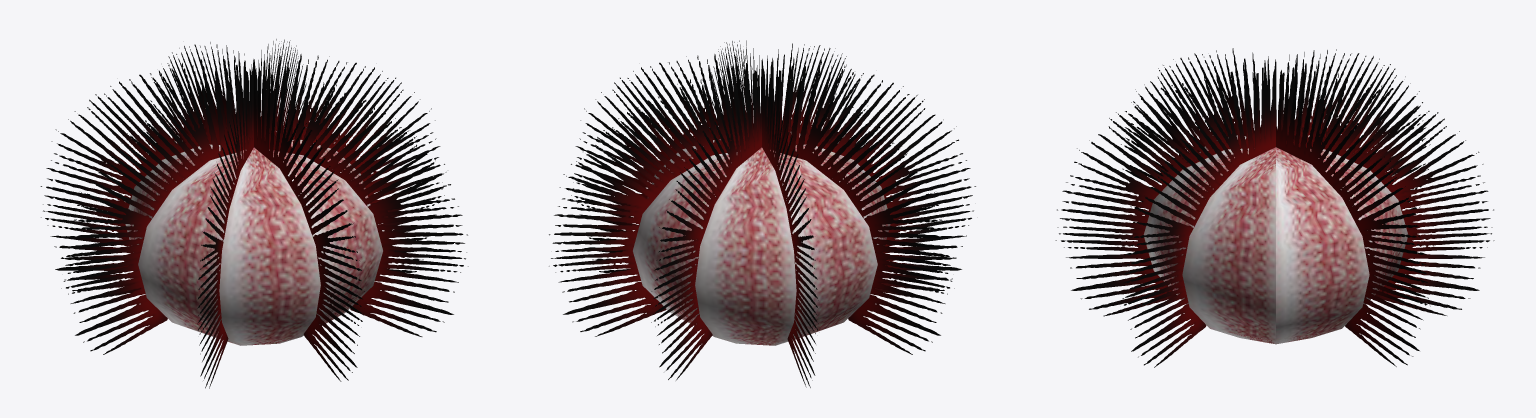
The model's file is urchinHairLongRed.fbx.
The picture shows the model from 3 angles, left to right: view 1: azimuth 30°, elevation 25°; view 2: azimuth 150°, elevation 25°; view 3: azimuth 270°, elevation 25°; orthographic projection.
Parts seen in each view (by area): view 1: urchinWithHairLongRedObject; view 2: urchinWithHairLongRedObject; view 3: urchinWithHairLongRedObject.
Boxes of the visible parts, x1,y1,x2,y2 form: urchinWithHairLongRedObject: (40, 39, 468, 388); urchinWithHairLongRedObject: (549, 40, 975, 387); urchinWithHairLongRedObject: (1055, 48, 1494, 367).
Size of the model in its own units: 0.1969 by 0.1244 by 0.1969.
Materials: 1 (1 with a texture image).
